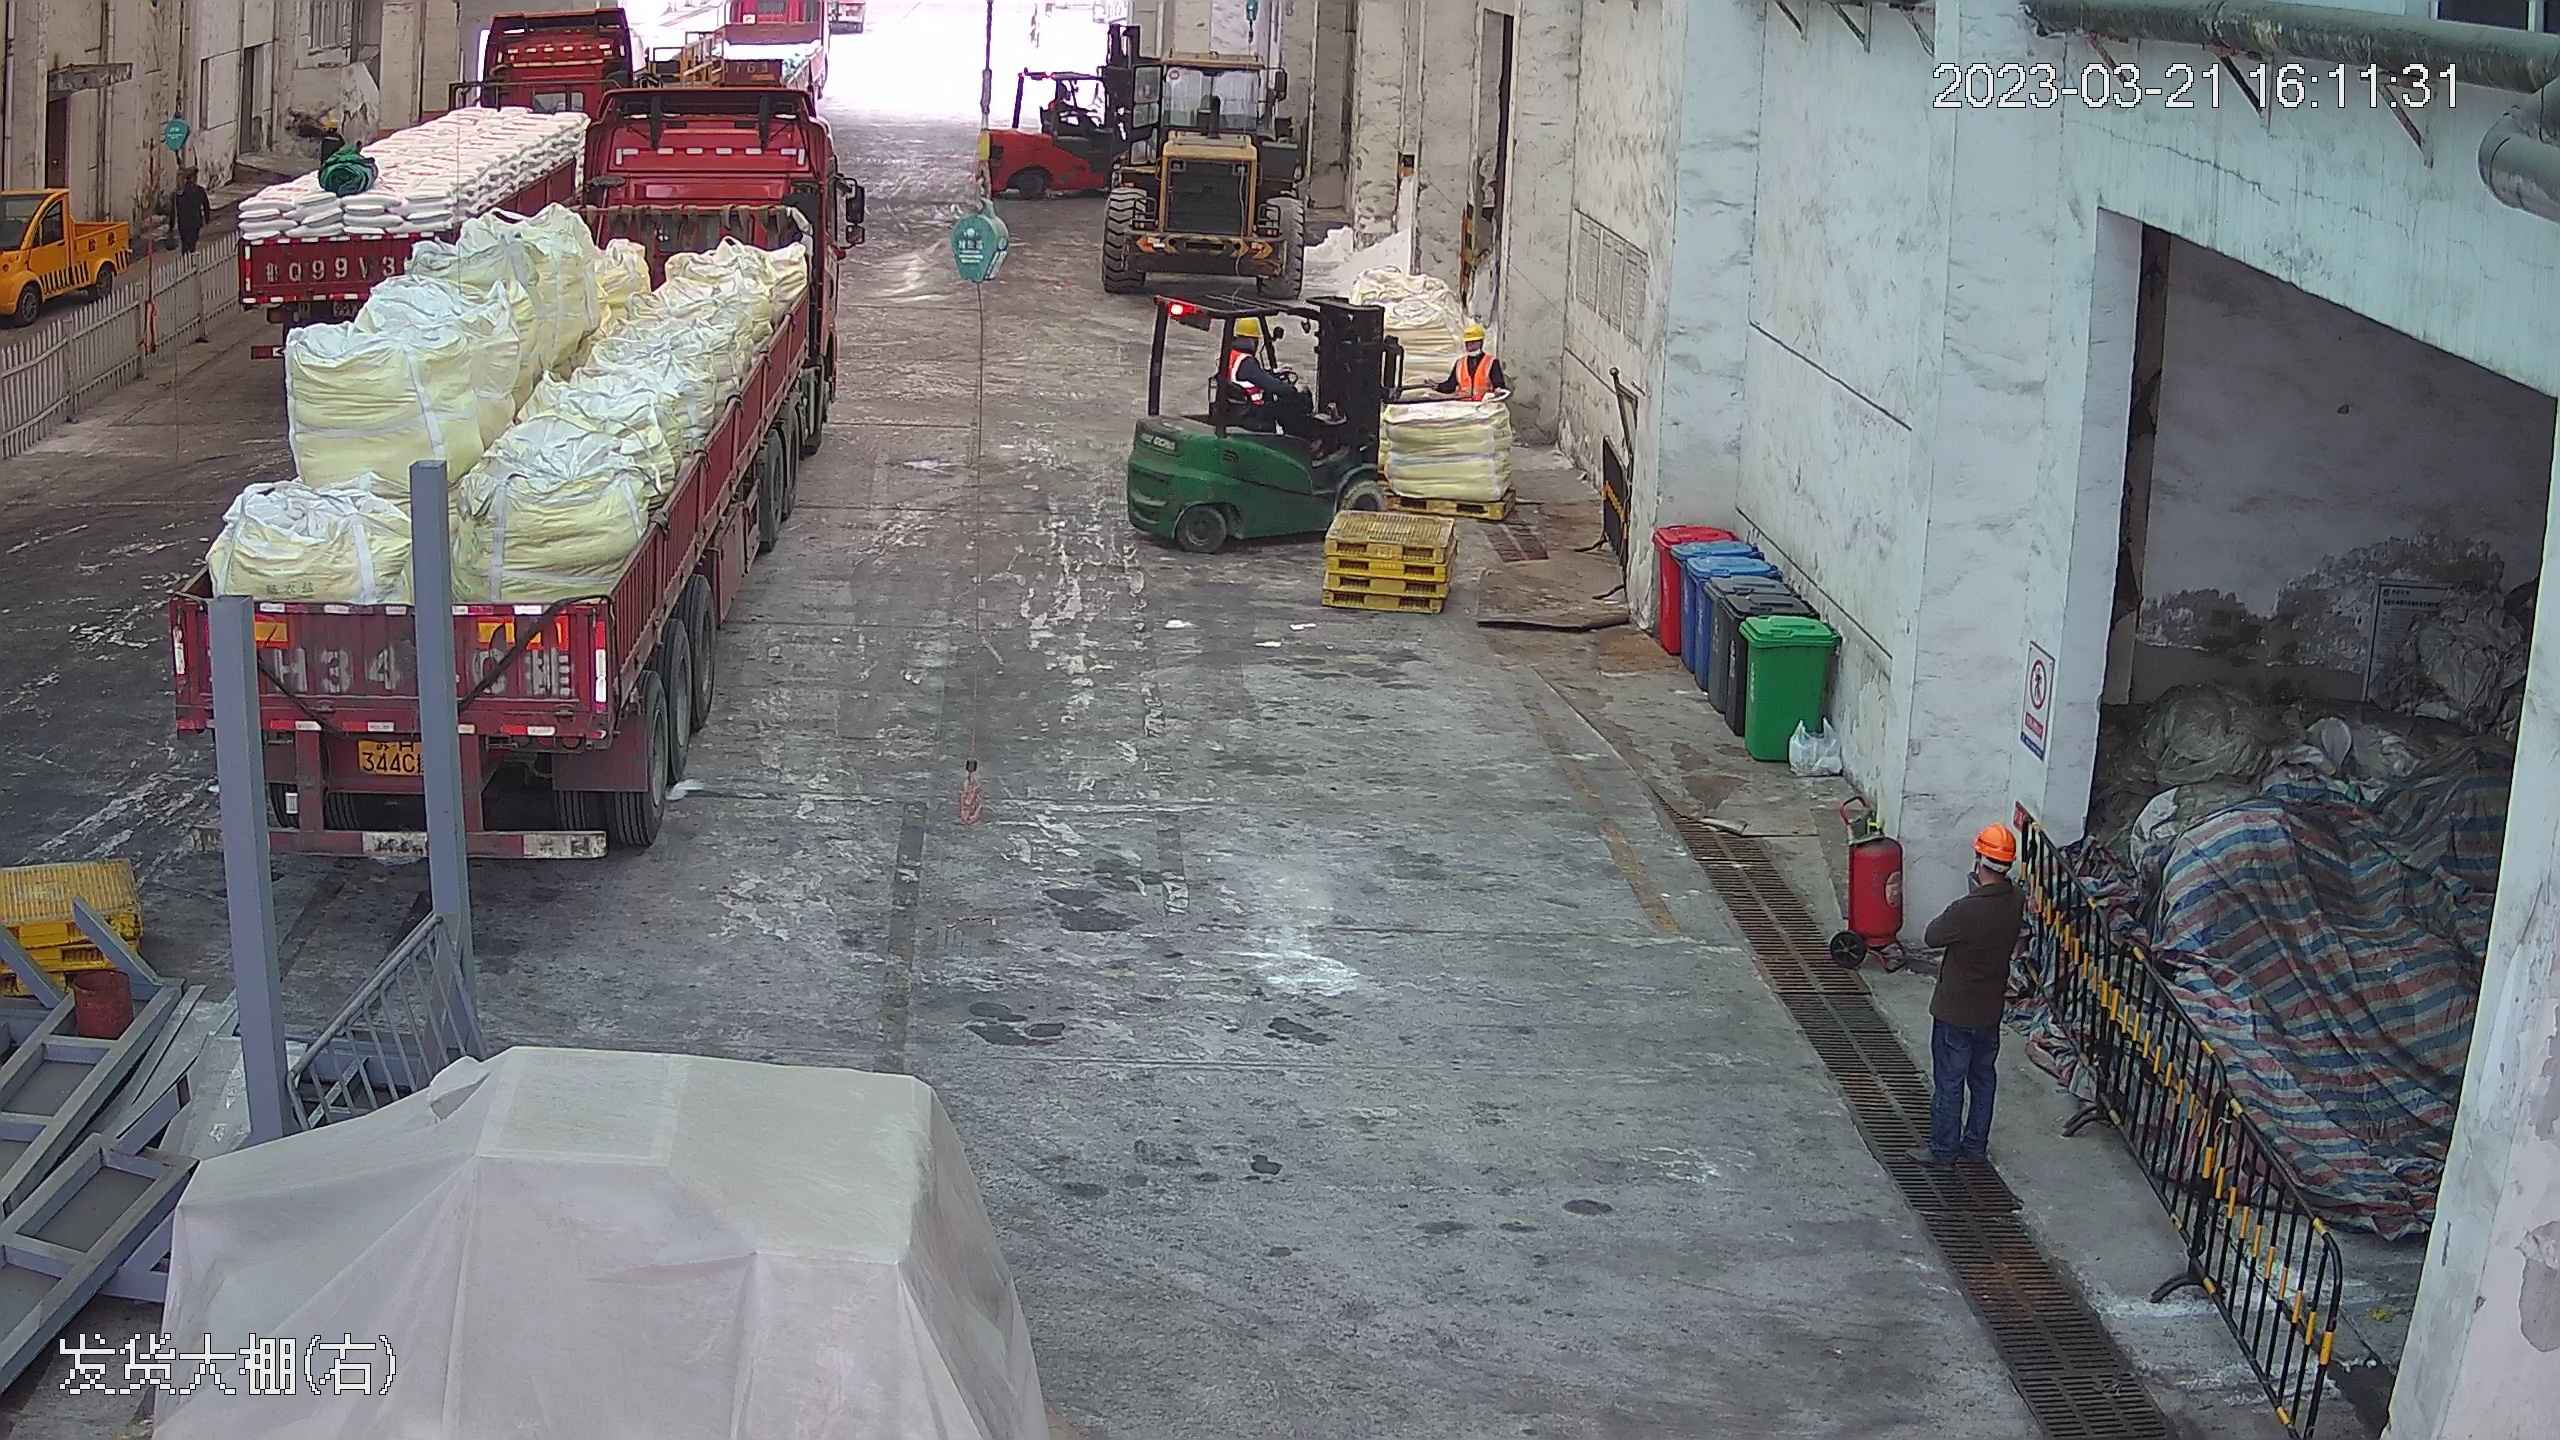head: (1943, 820, 2033, 931), (1221, 314, 1274, 373), (1448, 321, 1501, 382), (175, 164, 205, 210), (321, 118, 345, 150)
helmet: (1968, 820, 2019, 862), (1233, 311, 1263, 336), (1460, 321, 1489, 343), (182, 165, 200, 180), (327, 118, 340, 129)
people: (1912, 822, 2041, 1170), (169, 166, 207, 247)
truck: (173, 20, 851, 862)
